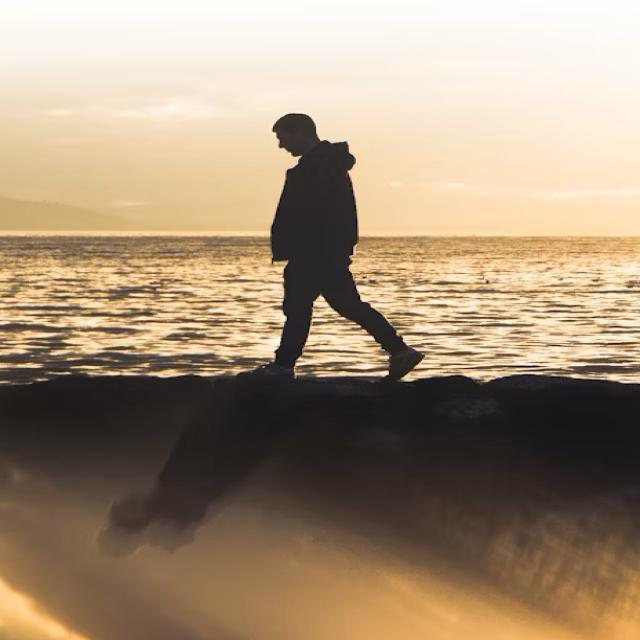Edited images: (241, 92, 440, 424)
